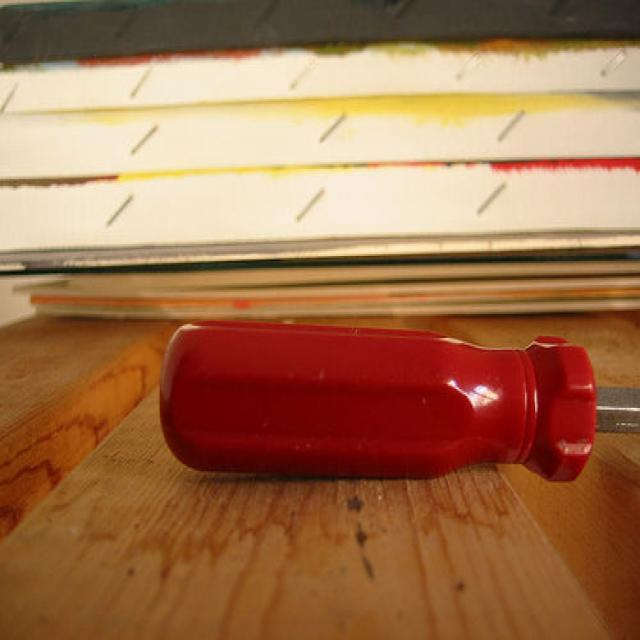screwdriver: (141, 306, 640, 510)
